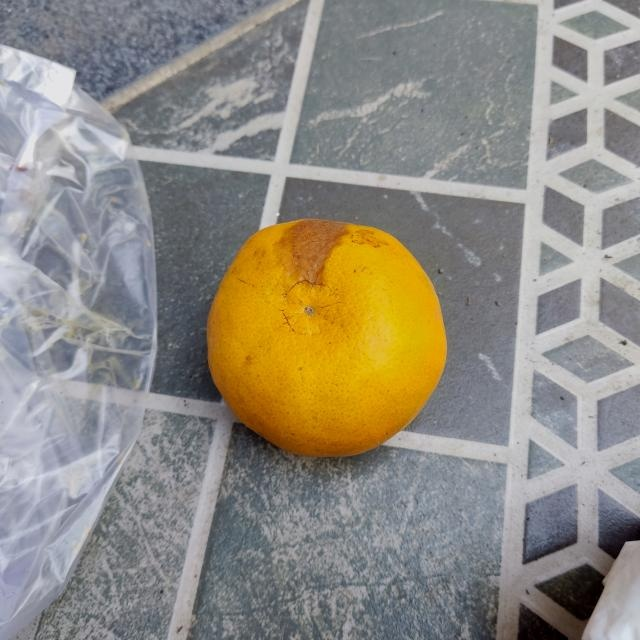agrume: (203, 215, 449, 465)
